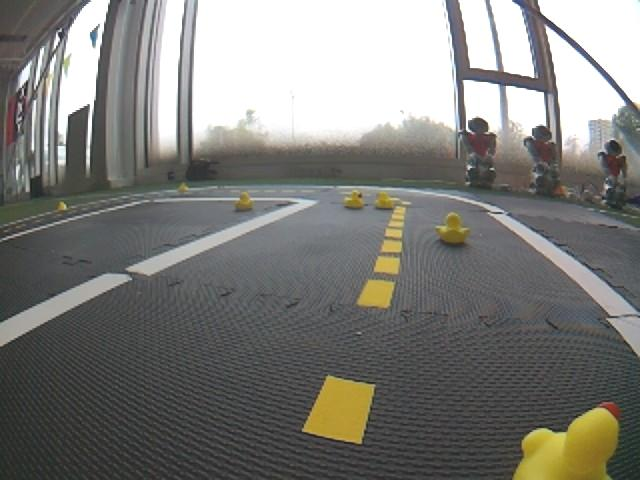Duckies: (512, 402, 622, 480), (434, 213, 469, 245), (344, 189, 366, 209), (234, 193, 255, 209), (374, 193, 396, 208), (57, 201, 67, 211), (179, 182, 190, 191)
